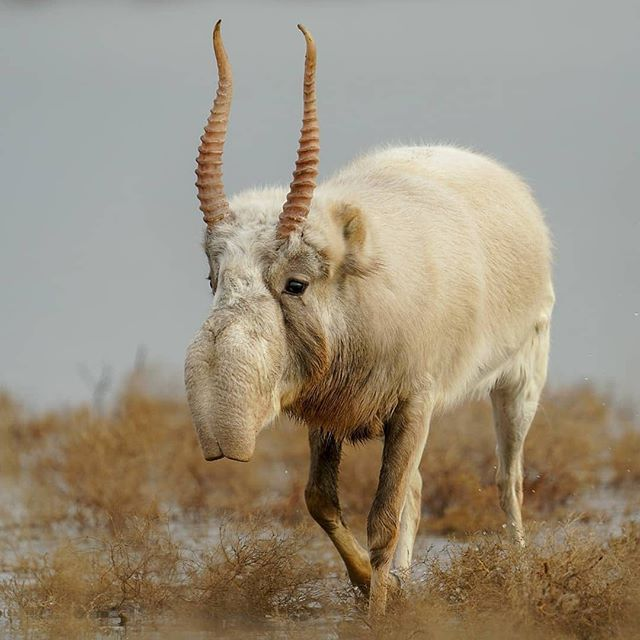saiga: (184, 17, 563, 611)
